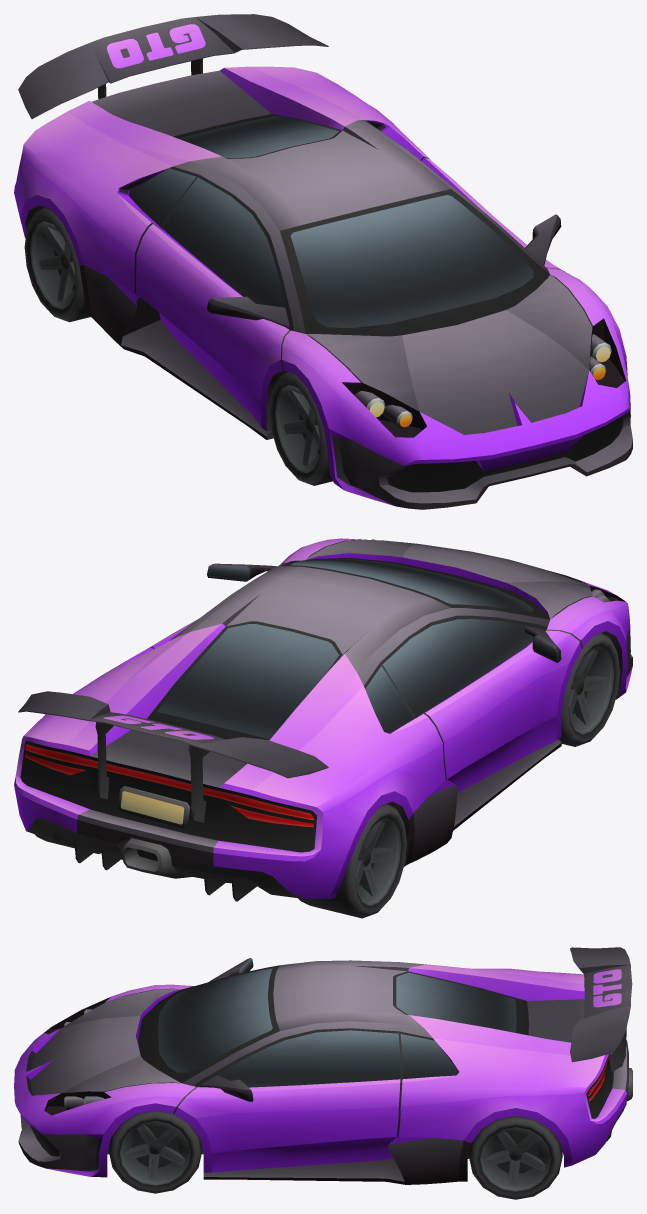
File: VHC0110004.FBX
3 views of the same model, one above another, from view 1: azimuth 30°, elevation 25°; view 2: azimuth 150°, elevation 25°; view 3: azimuth 270°, elevation 25° (orthographic). The views are drawn at different scales.
Parts seen in each view (by area): view 1: smVHC0110004; view 2: smVHC0110004; view 3: smVHC0110004.
Part boxes in pixels (x1,y1,x2,y2): smVHC0110004: (14,14,632,509); smVHC0110004: (14,538,632,918); smVHC0110004: (14,947,632,1199).
Bounding box in the file's own units: 1.84 × 0.986 × 3.55.
1 material, 1 textured.
